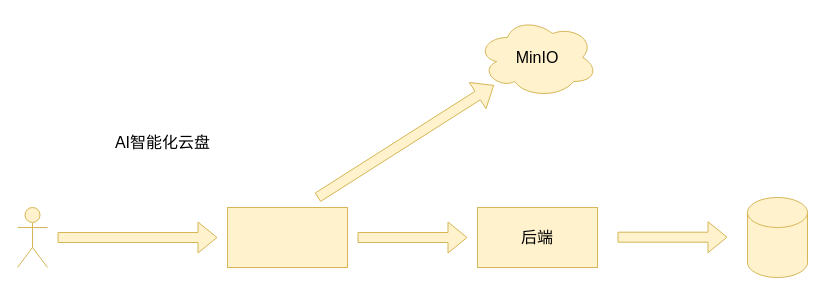
The diagram is 825 pixels wide and 295 high, and some of its shapes have lost their labels. The centre of each missing label's shape, as x and y in pixels:
"前端" goes at pixel 287 237.
"数据库" goes at pixel 777 237.
